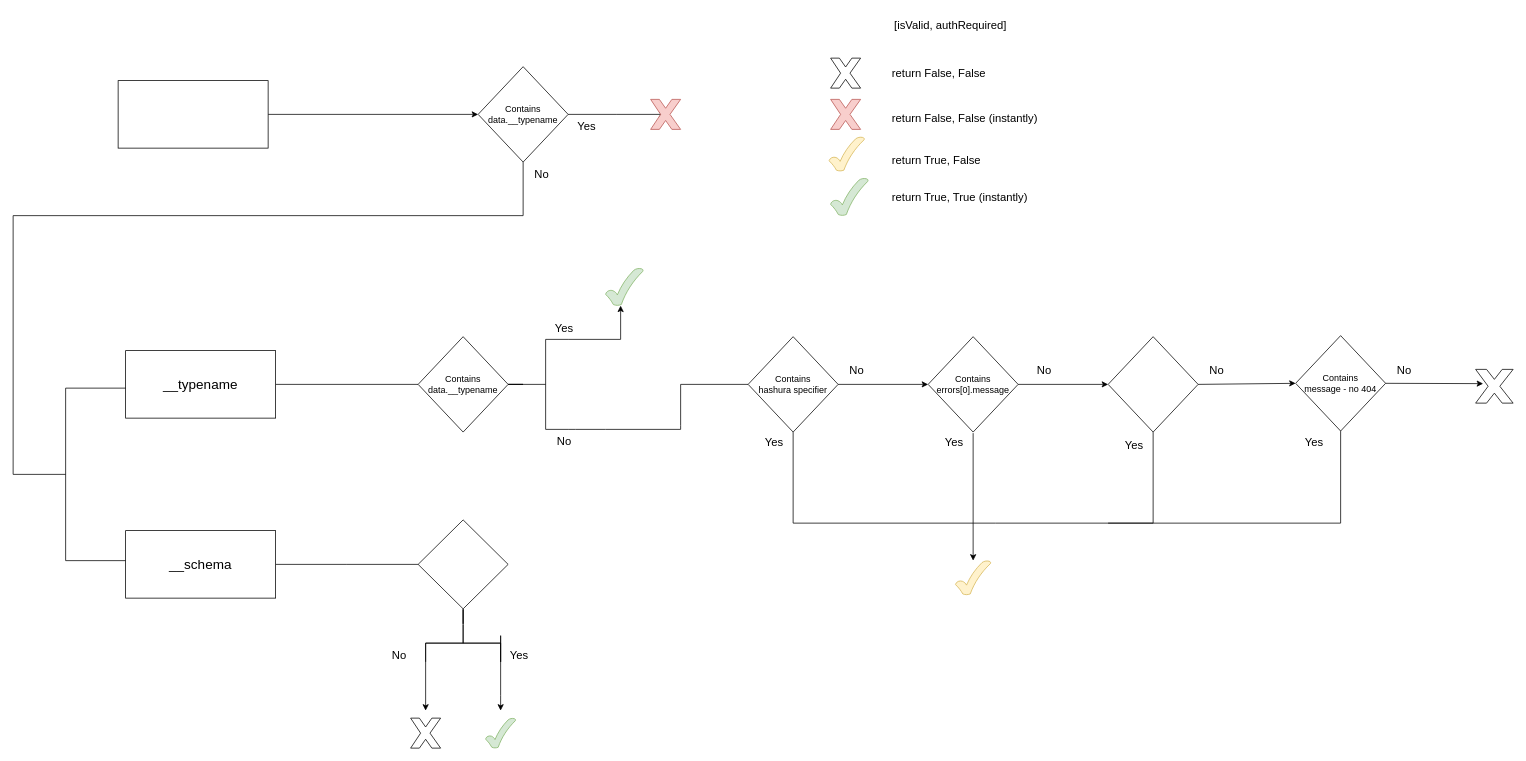
Some shapes in this 1526 by 761 pixel diagram are drawn without their labels. The centre of each missing label's shape, as x and y in pixels:
Contains data.__schema: [462,564]
Empty post request: [192,114]
Looks different than closest: [1152,384]
